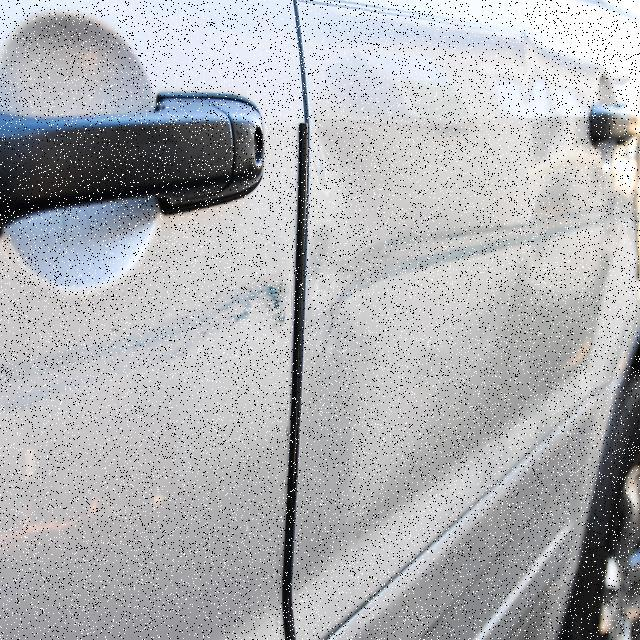doorouter-dent: (298, 2, 639, 639), (0, 5, 300, 639)
